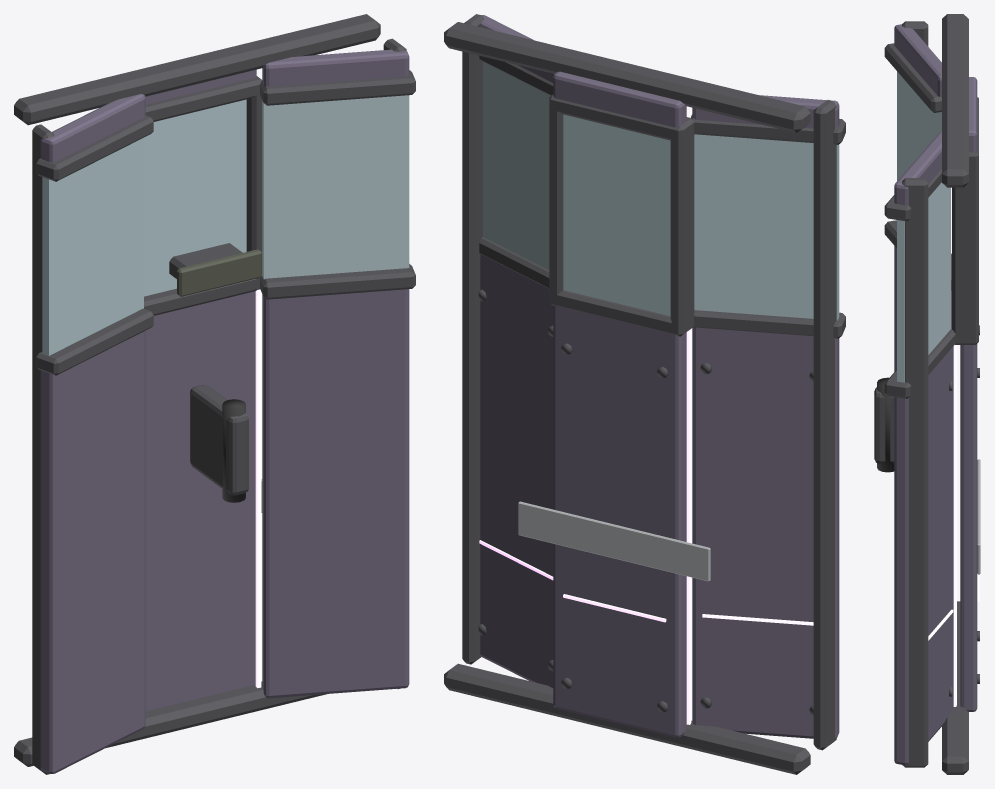
Rendered from stit_x.glb.
The picture shows the model from 3 angles, left to right: view 1: azimuth 30°, elevation 25°; view 2: azimuth 150°, elevation 25°; view 3: azimuth 270°, elevation 25°; orthographic projection. The views are drawn at different scales.
Parts seen in each view (by area): view 1: Stit_x; view 2: Stit_x; view 3: Stit_x.
Part boxes in pixels (box(x1,y1,x2,y2)): Stit_x: box(14, 14, 415, 774); Stit_x: box(444, 14, 845, 774); Stit_x: box(874, 14, 980, 774).
Size of the model in its own units: 0.5876 by 0.99 by 0.1575.
